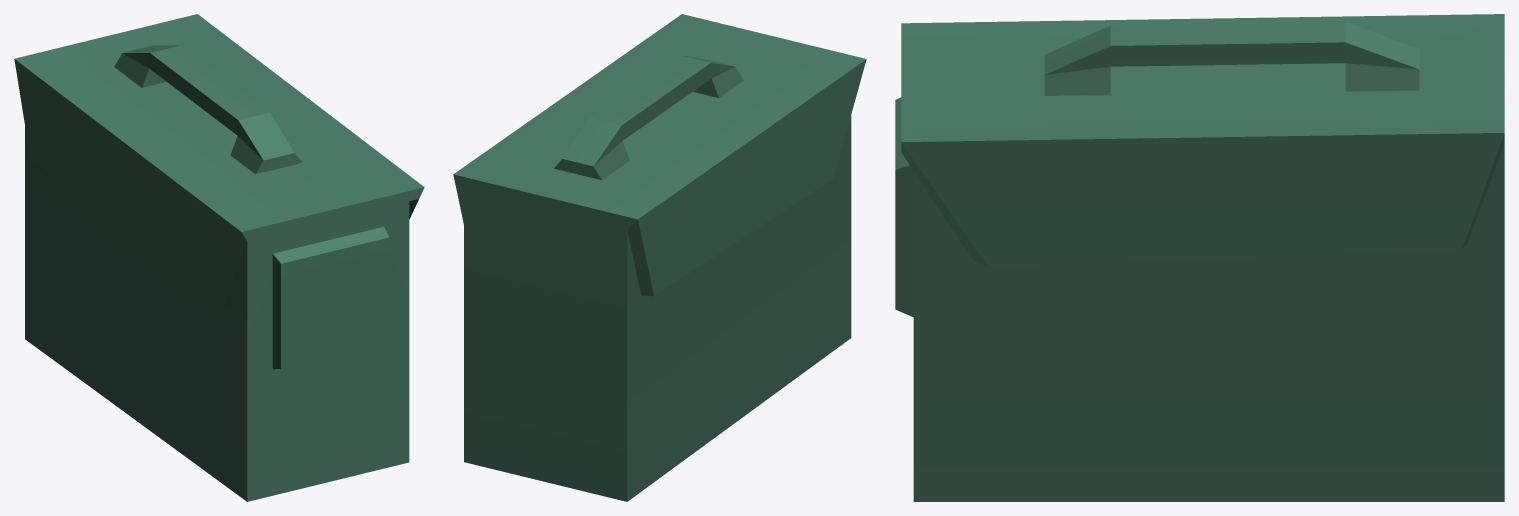
Rendered from Chaingun_Box_Closed.fbx.
The picture shows the model from 3 angles, left to right: view 1: azimuth 30°, elevation 25°; view 2: azimuth 150°, elevation 25°; view 3: azimuth 270°, elevation 25°; orthographic projection. The views are drawn at different scales.
Visible parts, largest first — view 1: Chaingun_Box_Closed; view 2: Chaingun_Box_Closed; view 3: Chaingun_Box_Closed.
Part boxes in pixels (<box>): Chaingun_Box_Closed: <box>14,14,424,501</box>; Chaingun_Box_Closed: <box>453,14,866,501</box>; Chaingun_Box_Closed: <box>895,14,1504,501</box>.
Size of the model in its own units: 44.26 by 72.49 by 95.92.
